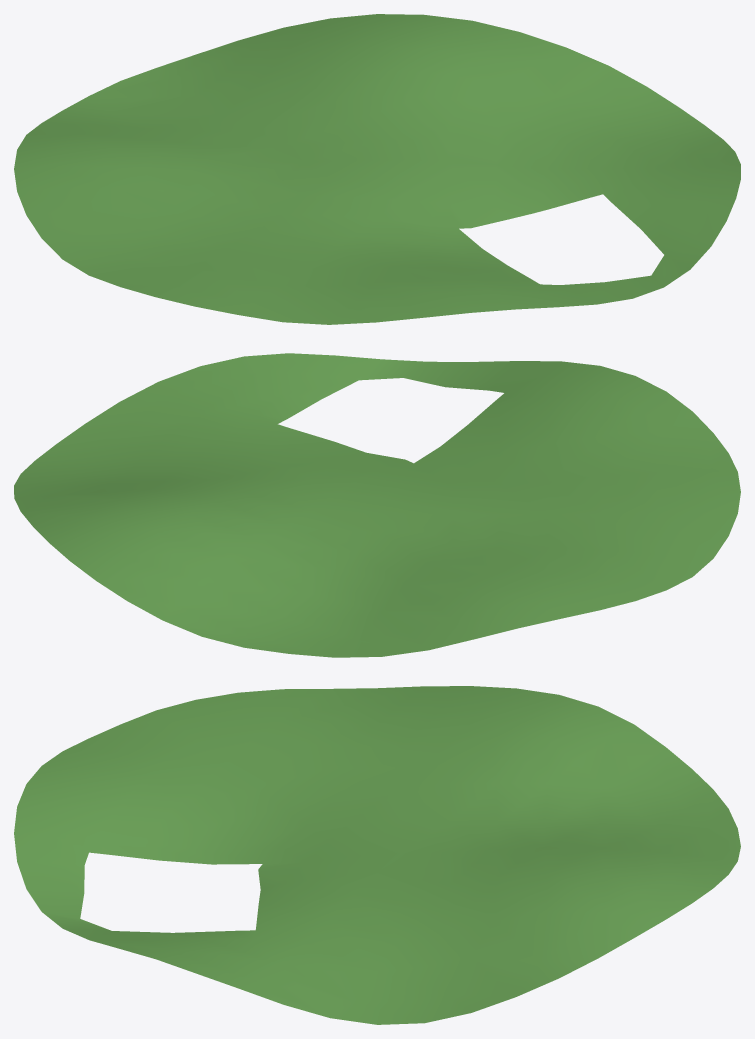
Rendered from ground for grass5.fbx.
The picture shows the model from 3 angles, top to bottom: view 1: azimuth 30°, elevation 25°; view 2: azimuth 150°, elevation 25°; view 3: azimuth 270°, elevation 25°; orthographic projection.
Parts seen in each view (by area): view 1: pDisc1; view 2: pDisc1; view 3: pDisc1.
Boxes of the visible parts, x1,y1,x2,y2 form: pDisc1: [14, 14, 740, 324]; pDisc1: [14, 353, 740, 657]; pDisc1: [14, 686, 740, 1024].
Bounding box in the file's own units: 38.93 × 2.75 × 38.06.
